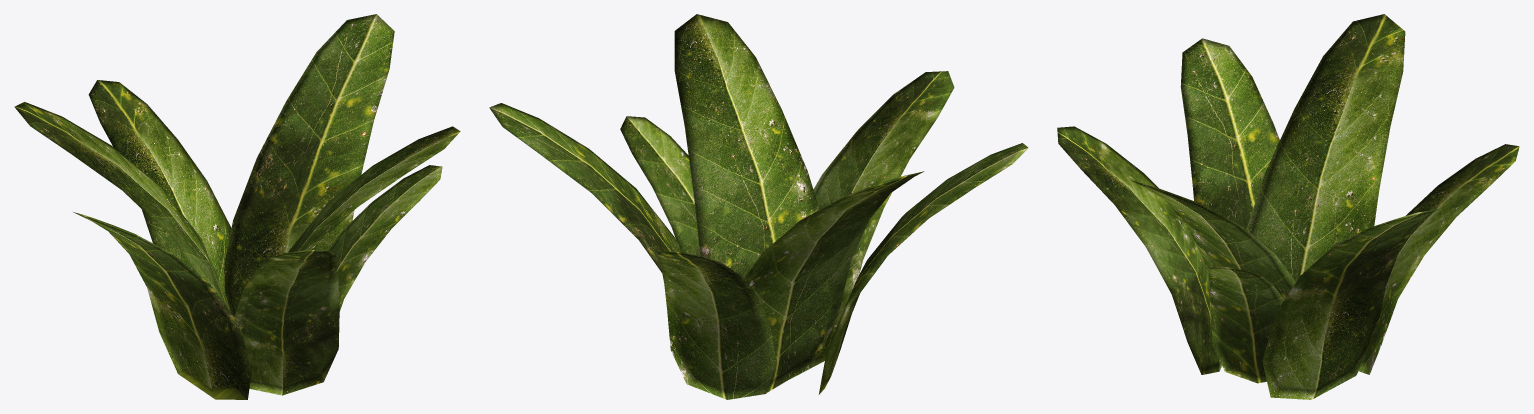
File: plant.fbx
The picture shows the model from 3 angles, left to right: view 1: azimuth 30°, elevation 25°; view 2: azimuth 150°, elevation 25°; view 3: azimuth 270°, elevation 25°; orthographic projection. The views are drawn at different scales.
Parts seen in each view (by area): view 1: Mesh; view 2: Mesh; view 3: Mesh.
Part boxes in pixels (x1,y1,x2,y2): Mesh: (14,14,460,399); Mesh: (489,14,1028,399); Mesh: (1057,14,1519,399).
Bounding box in the file's own units: 16.99 × 11.45 × 16.92.
